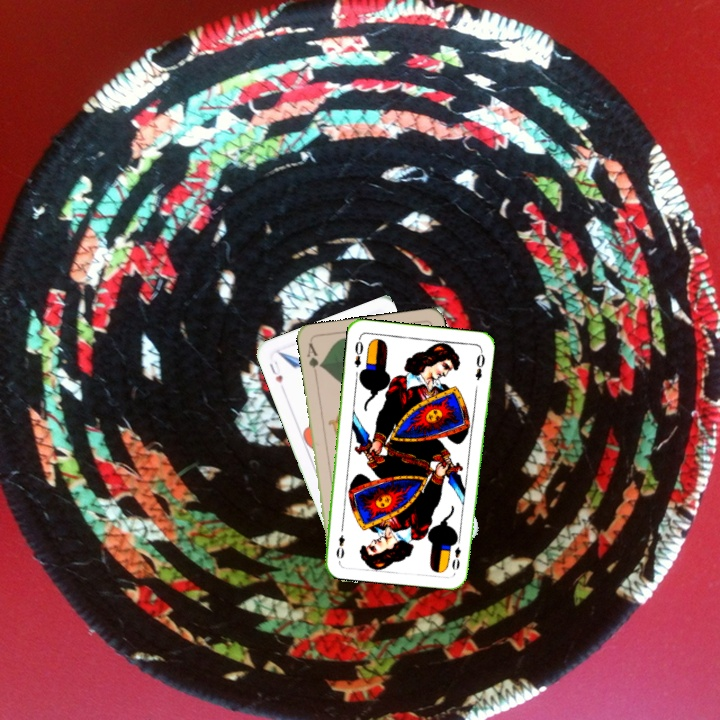EO: (448, 534, 463, 573), (350, 334, 366, 370)
GA: (302, 339, 324, 379)
HU: (265, 357, 285, 386)
